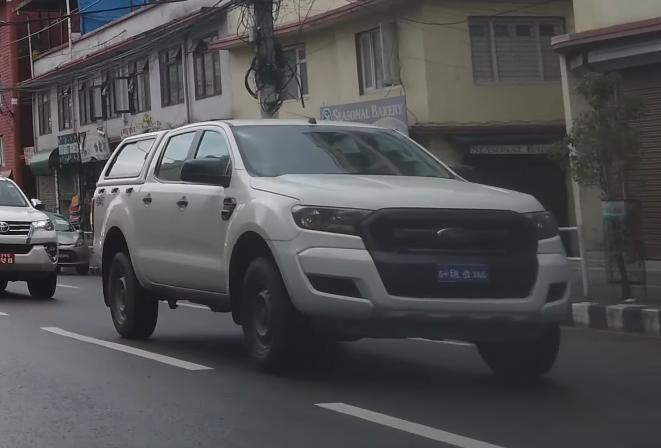SUV: (87, 111, 580, 387)
car: (0, 168, 62, 307)
